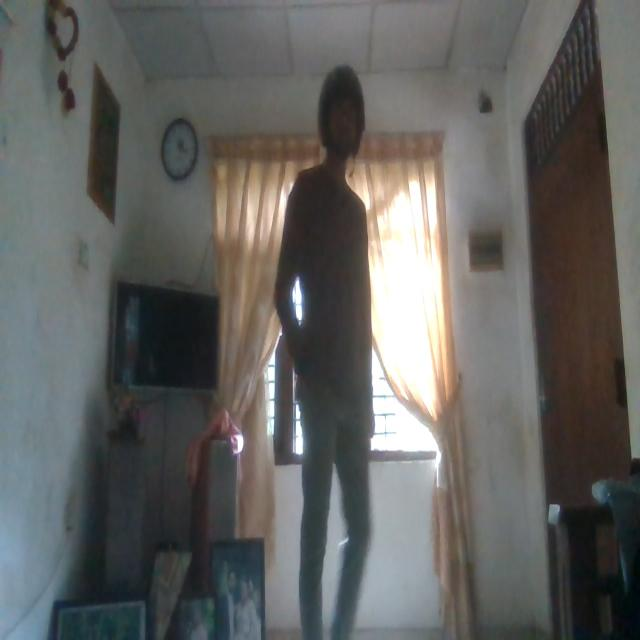Helmet_Wearer: (315, 61, 372, 196)
Person: (276, 65, 382, 640)
